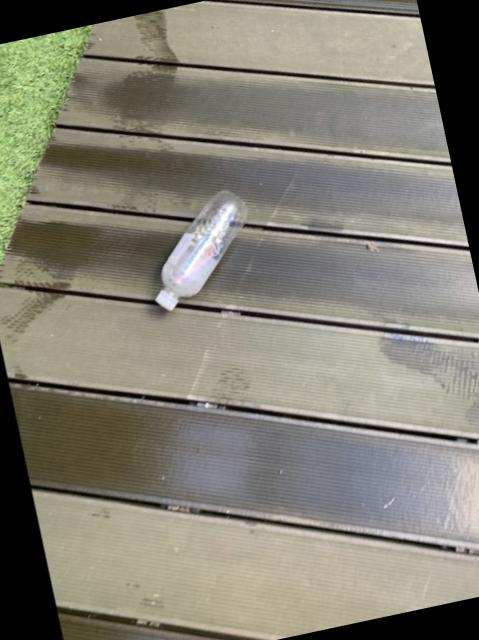plastic: (156, 189, 246, 308)
